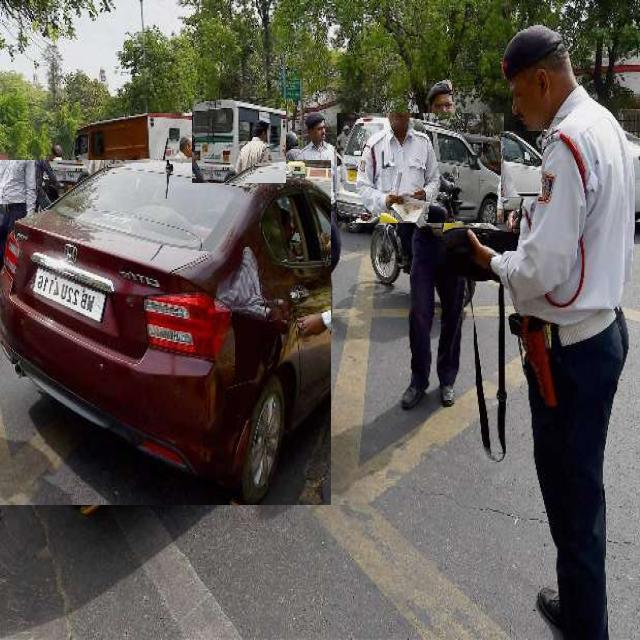bus: (192, 100, 286, 183)
car: (0, 161, 331, 505), (338, 114, 504, 223), (501, 132, 542, 197)
motorcycle: (366, 171, 529, 300)
truck: (74, 114, 198, 165)
